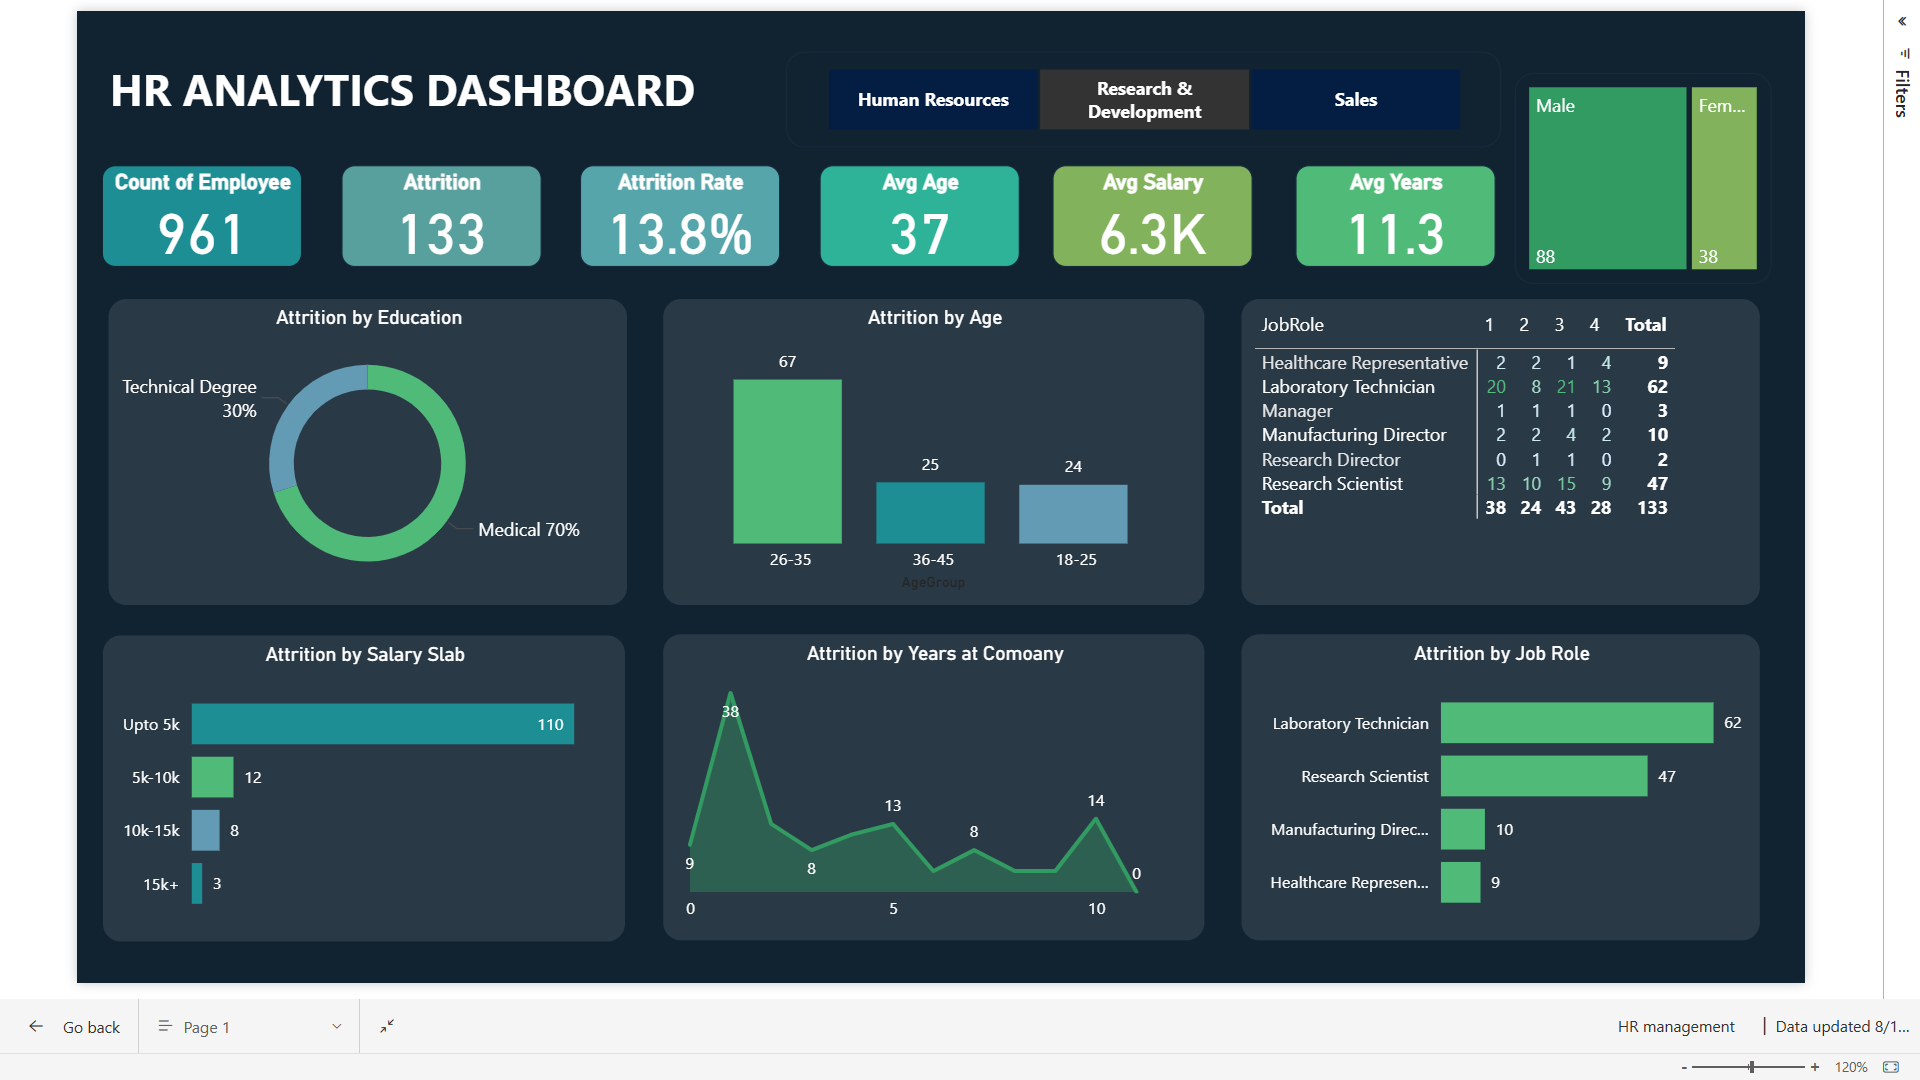

What the dashboard file says about the page in this screenshot:
{"tool":"powerbi","page":{"name":"Page 1","canvas":[1280,720],"ordinal":0},"visuals":[{"type":"card","title":"Count of Employee","fields":{"Values":["CountNonNull(HR_Analytics.EmpID)"]},"box":[18.6,114.3,148.6,75.7],"z":0},{"type":"card","title":"Attrition","fields":{"Values":["Sum(HR_Analytics.AttritionCount)"]},"box":[195.7,114.3,148,75.7],"z":1000},{"type":"card","title":"Attrition Rate","fields":{"Values":["HR_Analytics.AttritionRate"]},"box":[372.9,114.3,148,75.7],"z":2000},{"type":"card","title":"Avg Age","fields":{"Values":["Avg(HR_Analytics.Age)"]},"box":[550,114.3,148.6,75.7],"z":3000},{"type":"card","title":"Avg Salary","fields":{"Values":["Avg(HR_Analytics.MonthlyIncome)"]},"box":[722.9,114.3,148,75.7],"z":4000},{"type":"card","title":"Avg Years","fields":{"Values":["Avg(HR_Analytics.TotalWorkingYears)"]},"box":[902.9,114.3,148,75.7],"z":5000},{"type":"donutChart","title":"Attrition by Education","fields":{"Category":["HR_Analytics.EducationField"],"Y":["Sum(HR_Analytics.AttritionCount)"]},"box":[22.9,212.9,386,228.6],"z":6000},{"type":"columnChart","title":"Attrition by Age","fields":{"Category":["HR_Analytics.AgeGroup"],"Y":["Sum(HR_Analytics.AttritionCount)"]},"box":[433.1,212.3,403,228],"z":7000},{"type":"pivotTable","fields":{"Rows":["HR_Analytics.JobRole"],"Columns":["HR_Analytics.JobSatisfaction"],"Values":["Sum(HR_Analytics.AttritionCount)"]},"box":[861.4,212.3,386.1,228],"z":8000},{"type":"barChart","title":"Attrition by Salary Slab","fields":{"Category":["HR_Analytics.SalarySlab"],"Y":["Sum(HR_Analytics.AttritionCount)"]},"box":[18.6,461.4,388.6,228],"z":9000},{"type":"barChart","title":"Attrition by Job Role","fields":{"Category":["HR_Analytics.JobRole"],"Y":["Sum(HR_Analytics.AttritionCount)"]},"box":[861.4,460.9,386.1,228],"z":10000},{"type":"areaChart","title":"Attrition by Years at Comoany","fields":{"Category":["HR_Analytics.YearsAtCompany"],"Y":["Sum(HR_Analytics.AttritionCount)"]},"box":[433.1,460.9,403,228],"z":11000},{"type":"treemap","title":"Attrition by Gender","fields":{"Group":["HR_Analytics.Gender"],"Values":["Sum(HR_Analytics.AttritionCount)"]},"box":[1065.3,45.8,190.6,156.8],"z":12000},{"type":"slicer","fields":{"Values":["HR_Analytics.Department"]},"box":[524.8,30.2,529.6,71.2],"z":13000},{"type":"textbox","box":[19.2,30.2,478.9,56.3],"z":14000}]}

Visuals, with their boxes on the page's 1280x720 design canvas (x1, y1, x2, y2). These are canvas units, not pixel positions in the 1920x1080 screenshot, which may show the page scaled, cropped or inside an application window:
"Count of Employee" card: rect(19, 114, 167, 190)
"Attrition" card: rect(196, 114, 344, 190)
"Attrition Rate" card: rect(373, 114, 521, 190)
"Avg Age" card: rect(550, 114, 699, 190)
"Avg Salary" card: rect(723, 114, 871, 190)
"Avg Years" card: rect(903, 114, 1051, 190)
"Attrition by Education" donutChart: rect(23, 213, 409, 442)
"Attrition by Age" columnChart: rect(433, 212, 836, 440)
pivotTable - HR_Analytics.JobRole x HR_Analytics.JobSatisfaction: rect(861, 212, 1248, 440)
"Attrition by Salary Slab" barChart: rect(19, 461, 407, 689)
"Attrition by Job Role" barChart: rect(861, 461, 1248, 689)
"Attrition by Years at Comoany" areaChart: rect(433, 461, 836, 689)
"Attrition by Gender" treemap: rect(1065, 46, 1256, 203)
slicer - HR_Analytics.Department: rect(525, 30, 1054, 101)
textbox: rect(19, 30, 498, 86)
